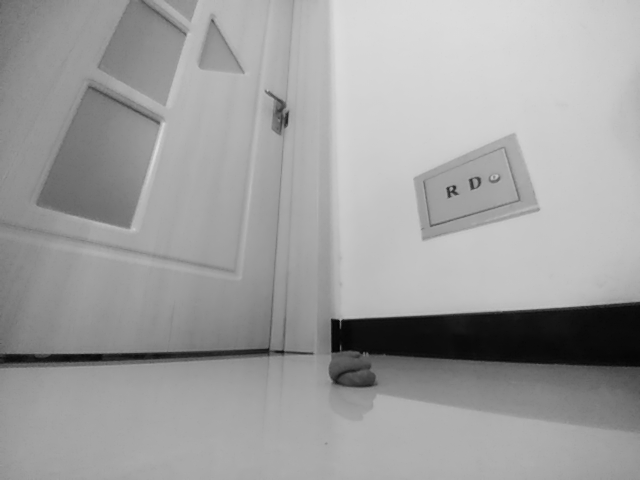pet feces: (328, 349, 379, 388)
